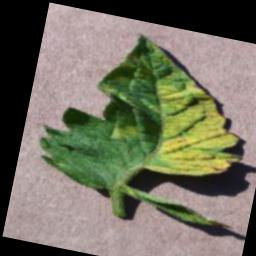Leaf_Mold: (131, 42, 256, 187)
